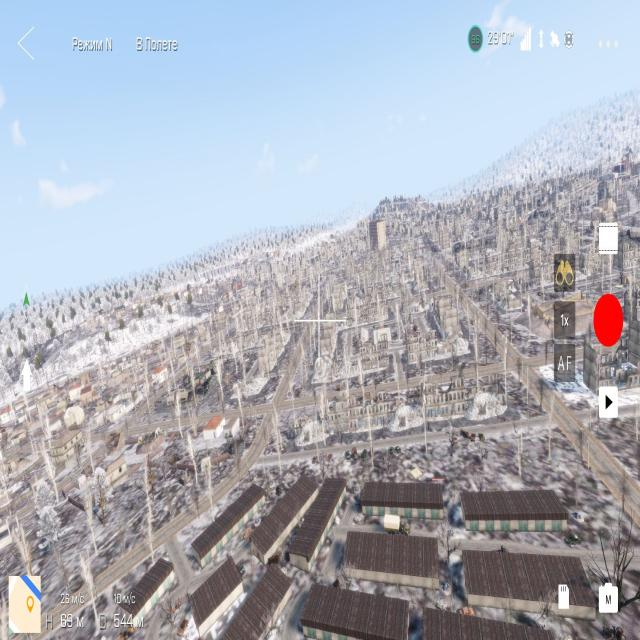fortification: (458, 547, 609, 623), (293, 380, 505, 434), (178, 472, 270, 564), (300, 571, 412, 640), (240, 460, 312, 558), (343, 528, 444, 595), (454, 474, 572, 530), (226, 546, 291, 640), (420, 599, 560, 640), (298, 450, 344, 565), (110, 554, 180, 625), (354, 471, 447, 520), (176, 566, 249, 628)
vehicle: (377, 507, 417, 547), (563, 530, 586, 554)
